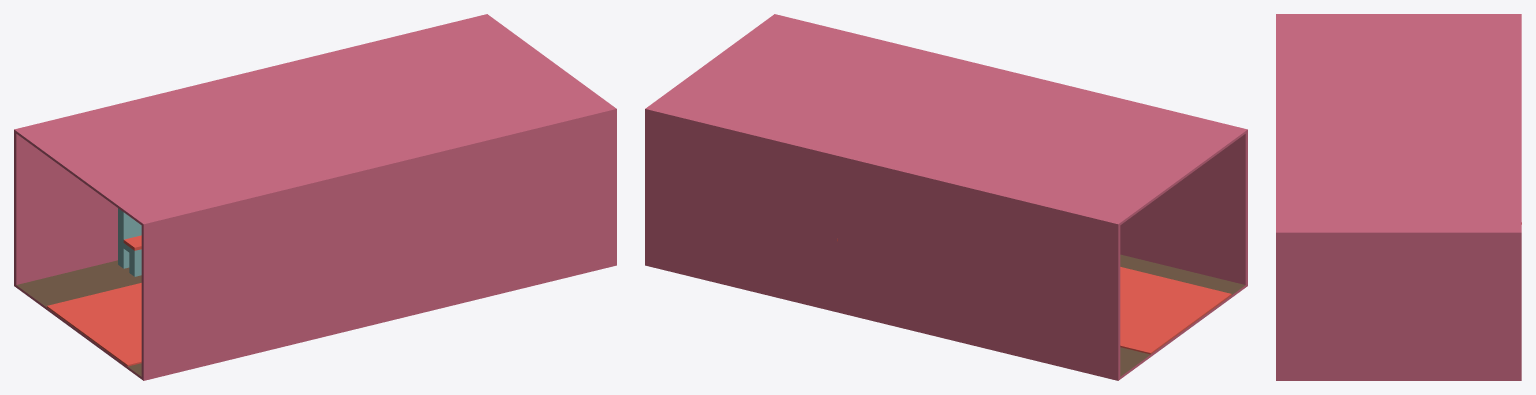
File: drcatreceptioninterior.fbx
The picture shows the model from 3 angles, left to right: view 1: azimuth 30°, elevation 25°; view 2: azimuth 150°, elevation 25°; view 3: azimuth 270°, elevation 25°; orthographic projection. The views are drawn at different scales.
Visible parts, largest first — view 1: Cube.185; view 2: Cube.185; view 3: Cube.185.
Boxes of the visible parts, box(x1,y1,x2,y2) form: Cube.185: box(14, 14, 616, 380); Cube.185: box(645, 14, 1247, 380); Cube.185: box(1276, 14, 1521, 380).
Size of the model in its own units: 762 by 241 by 362.
